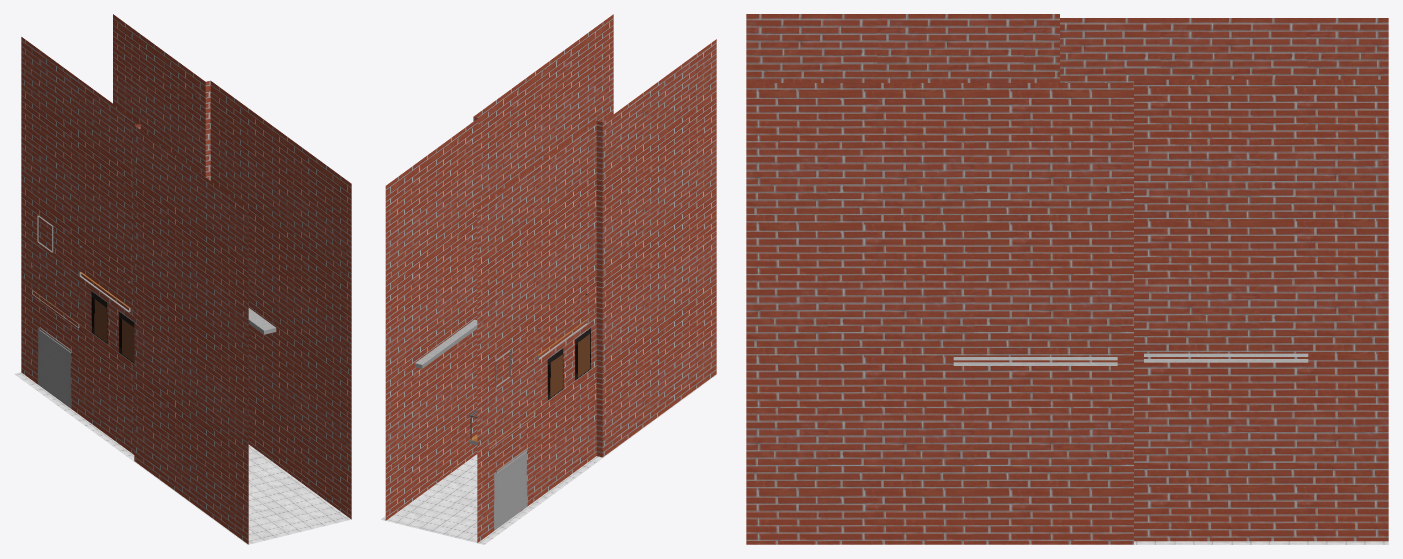
The picture shows the model from 3 angles, left to right: view 1: azimuth 30°, elevation 25°; view 2: azimuth 150°, elevation 25°; view 3: azimuth 270°, elevation 25°; orthographic projection. The views are drawn at different scales.
Parts seen in each view (by area): view 1: 3 bg.012; view 2: 3 bg.012, 3 bg.013; view 3: 3 bg.012, 3 bg.011, 3 bg.013.
Boxes of the visible parts, <box> form: 3 bg.012: <box>14,14,351,544</box>; 3 bg.012: <box>381,14,716,544</box>; 3 bg.013: <box>415,319,477,368</box>; 3 bg.012: <box>746,14,1388,544</box>; 3 bg.011: <box>953,357,1117,365</box>; 3 bg.013: <box>1144,353,1308,362</box>.
Size of the model in its own units: 1414 by 4160 by 5244.
1 material, 1 textured.
